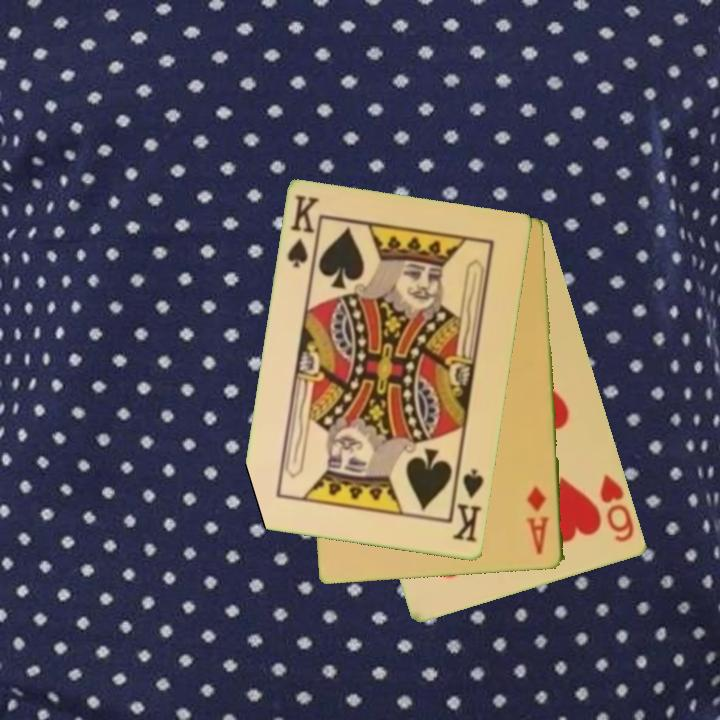6h: (597, 471, 638, 546)
Ad: (523, 482, 553, 559)
Ks: (448, 464, 487, 546), (284, 192, 322, 276)
